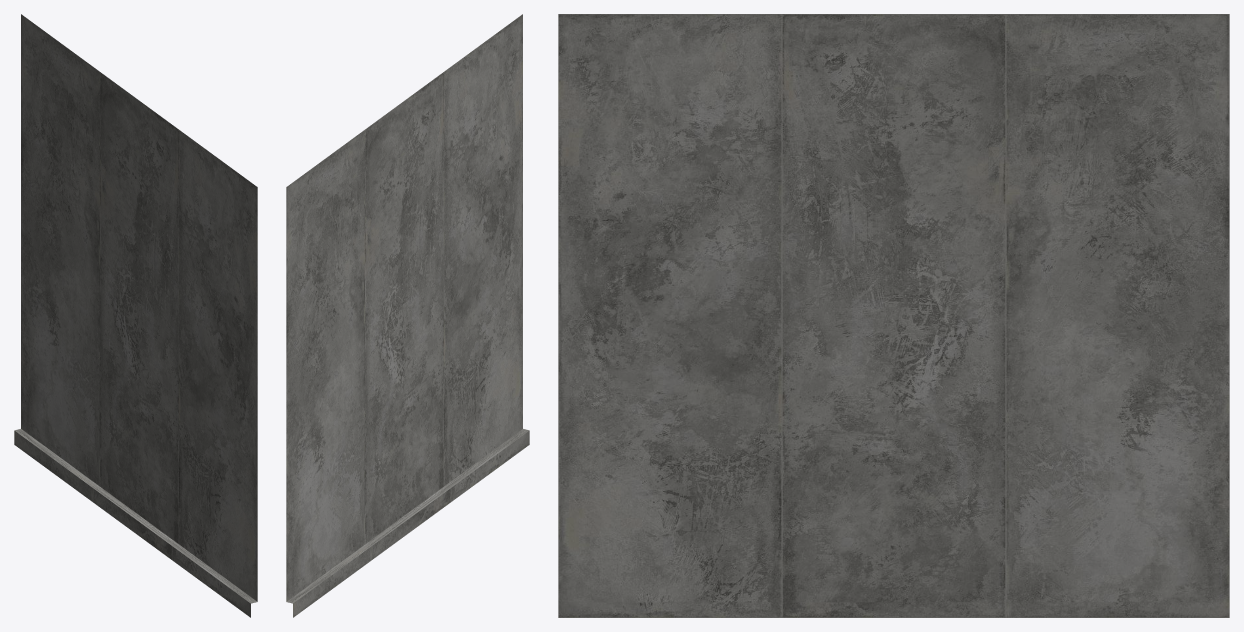
Rendered from wall_001.fbx.
The picture shows the model from 3 angles, left to right: view 1: azimuth 30°, elevation 25°; view 2: azimuth 150°, elevation 25°; view 3: azimuth 270°, elevation 25°; orthographic projection. The views are drawn at different scales.
Parts seen in each view (by area): view 1: Wall_001; view 2: Wall_001; view 3: Wall_001.
Part boxes in pixels (x1,y1,x2,y2): Wall_001: (14,14,257,617); Wall_001: (286,14,529,617); Wall_001: (558,14,1229,617).
Bounding box in the file's own units: 1.97 × 118 × 118.
1 material, 1 textured.
